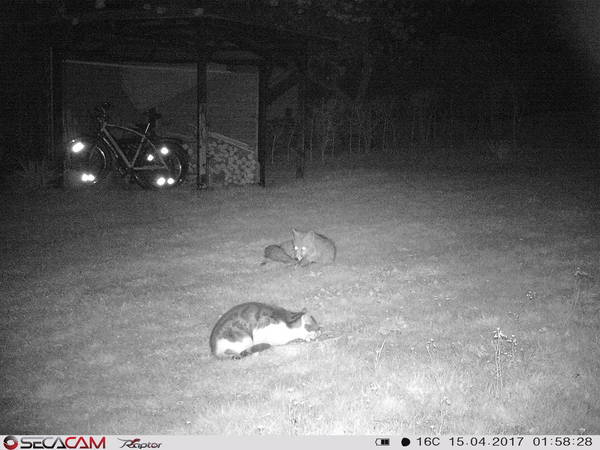house cat: (210, 302, 324, 366), (266, 215, 351, 296)
